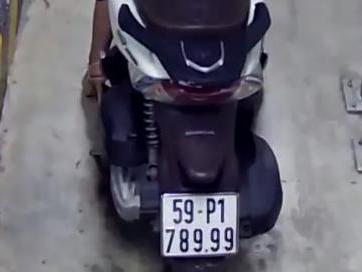num_plate: (163, 195, 235, 253)
